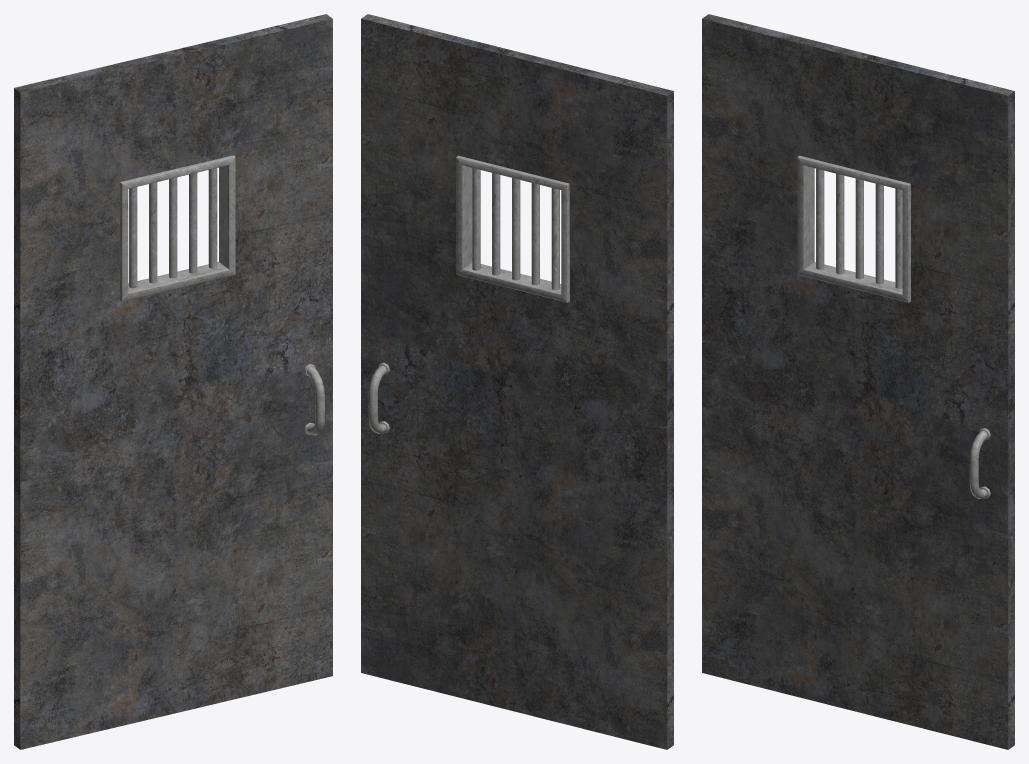
Rendered from WhiteMetalDoor.FBX.
3 views of the same model, side by side, from view 1: azimuth 30°, elevation 25°; view 2: azimuth 150°, elevation 25°; view 3: azimuth 330°, elevation 25° (orthographic).
Parts seen in each view (by area): view 1: WhiteMetalDoor; view 2: WhiteMetalDoor; view 3: WhiteMetalDoor.
Boxes of the visible parts, x1,y1,x2,y2 form: WhiteMetalDoor: [14, 14, 332, 749]; WhiteMetalDoor: [361, 14, 673, 749]; WhiteMetalDoor: [702, 14, 1014, 749].
Size of the model in its own units: 32.42 by 65.65 by 6.03.
